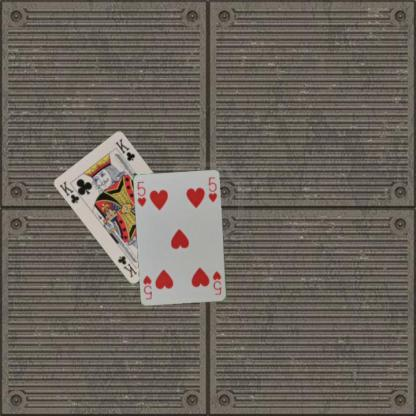5h: (135, 179, 147, 208), (210, 269, 222, 296)
Kc: (57, 178, 81, 204)
